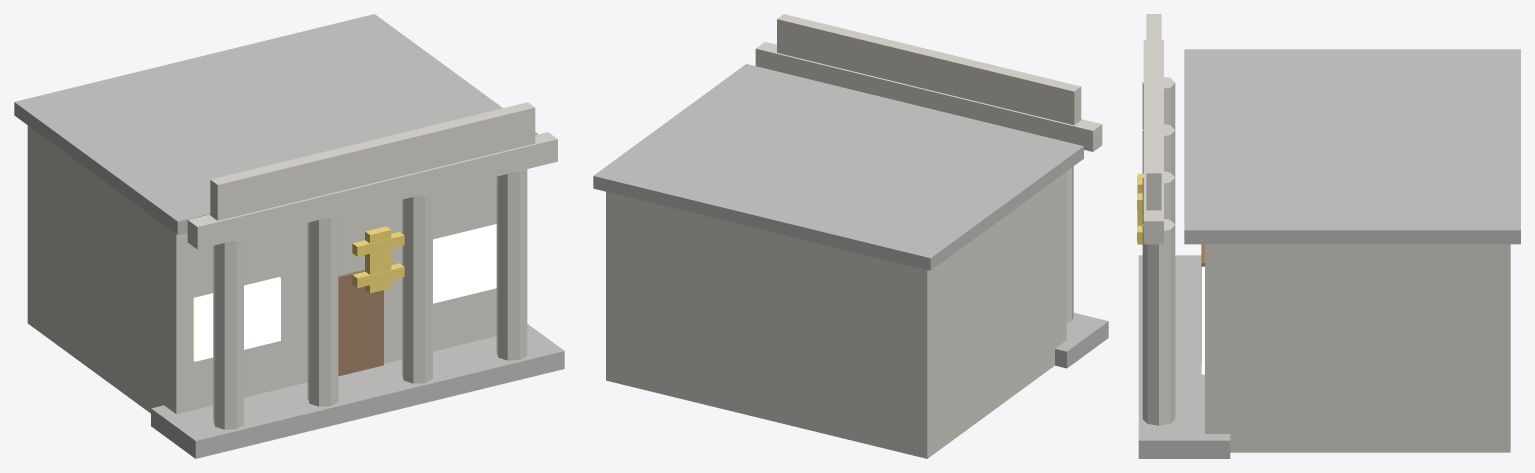
Rendered from bank.glb.
The picture shows the model from 3 angles, left to right: view 1: azimuth 30°, elevation 25°; view 2: azimuth 150°, elevation 25°; view 3: azimuth 270°, elevation 25°; orthographic projection. The views are drawn at different scales.
Visible parts, largest first — view 1: bank; view 2: bank; view 3: bank.
Boxes of the visible parts, bbox=[...] form: bank: bbox=[14, 14, 564, 458]; bank: bbox=[593, 14, 1108, 458]; bank: bbox=[1137, 14, 1520, 458].
Size of the model in its own units: 8.6 by 5.9 by 7.53.
